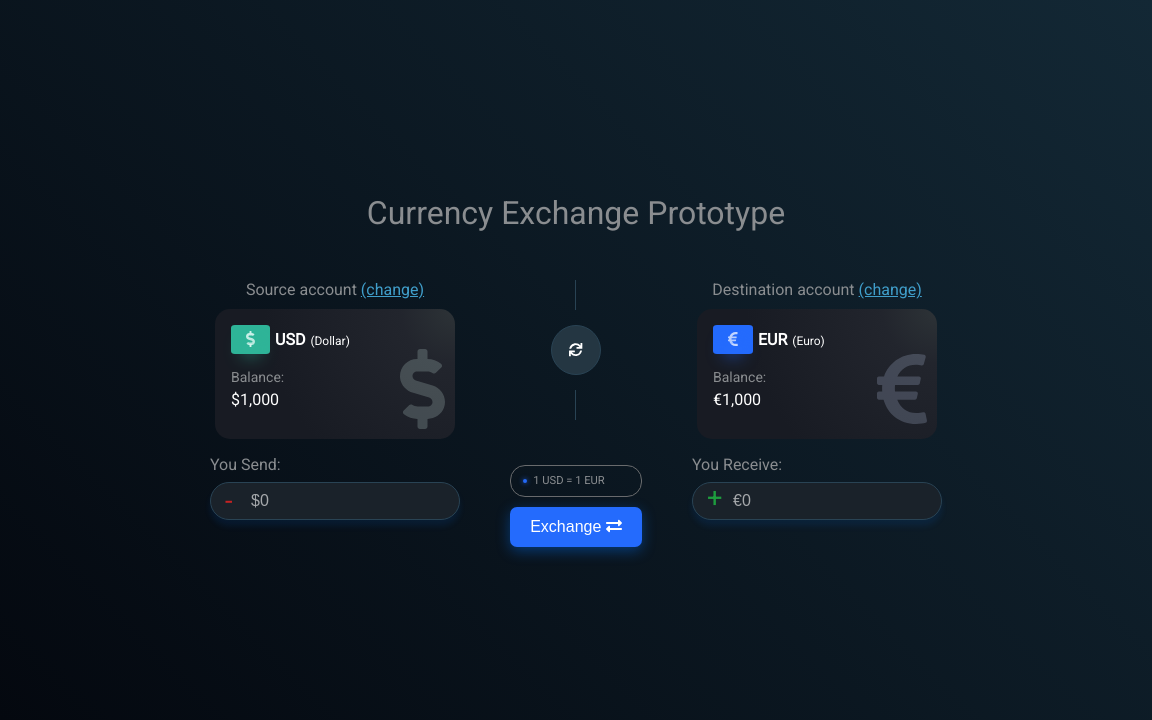
Scenario: change source account
The image size is (1152, 720).
Click the text "(change)" next to "Source account" at (393,290), box [361,280,424,299]
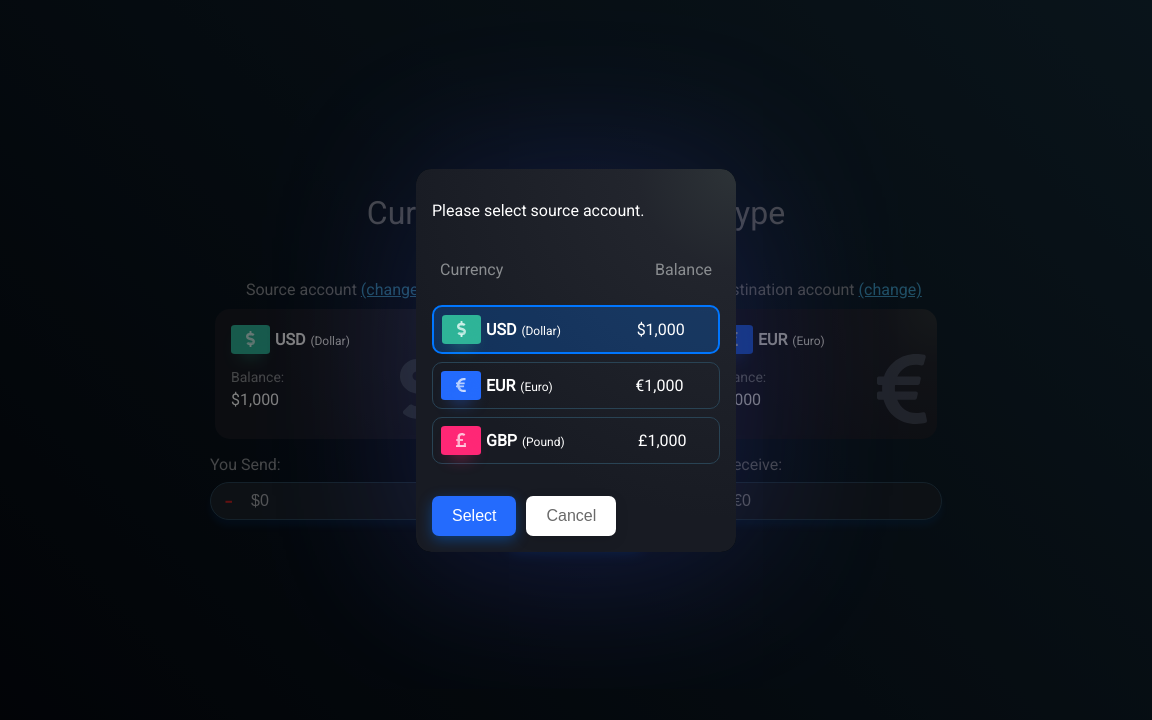
Result: the text "Please select source account." is shown at [432,200,645,220]
Click the text "GBP" at (502,440), box [486,430,517,450]
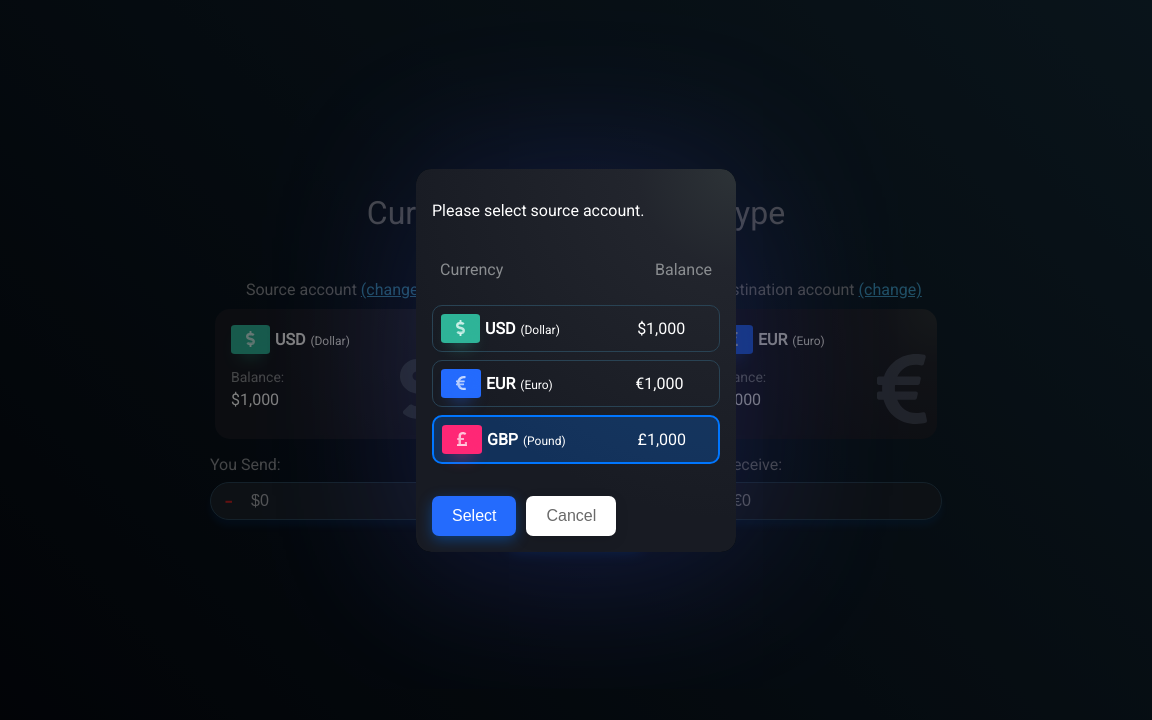
Click the button "Select" at (474,516), box [432,496,516,536]
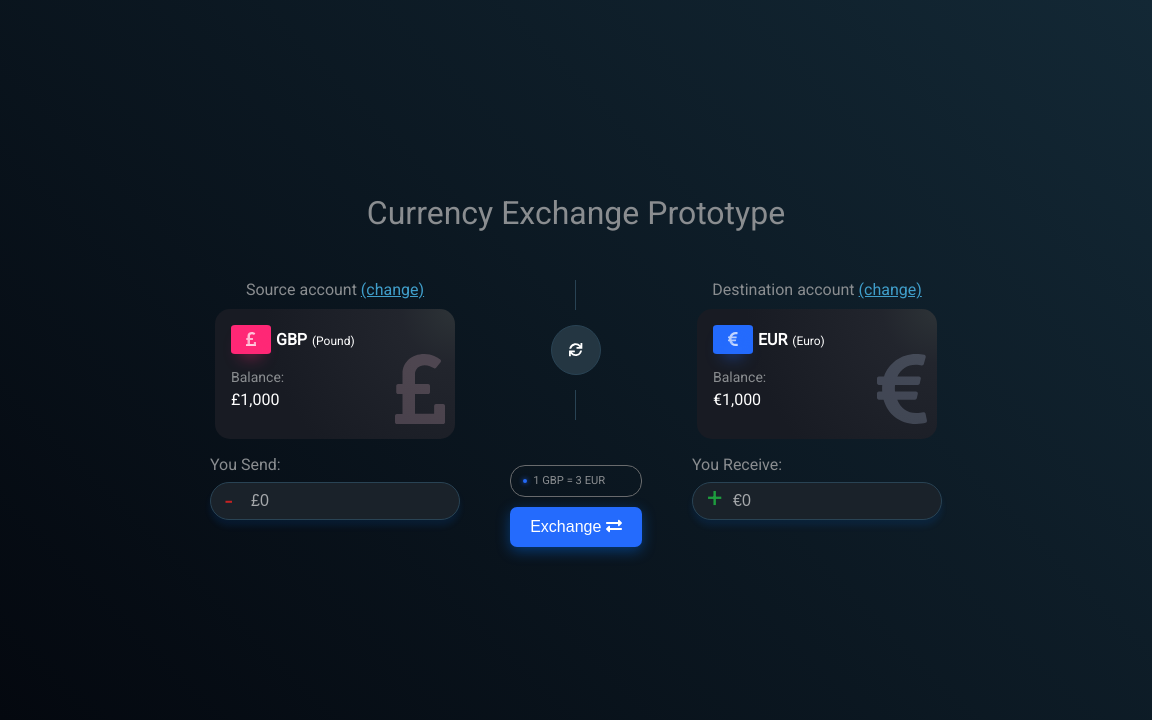
Result: the text "1 GBP = 3 EUR" is shown at [533,474,605,487]
Result: the element with test id "currency-label" shows "GBP" at [276,330,307,349]
